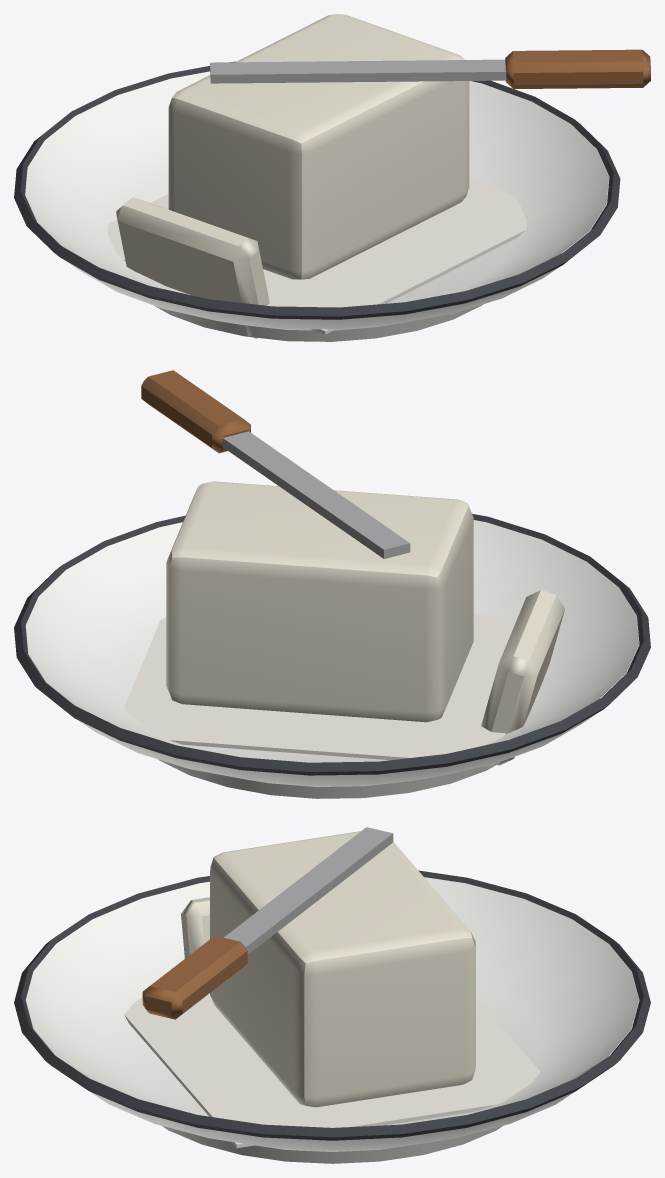
The model's file is cook_butter.glb.
The picture shows the model from 3 angles, top to bottom: view 1: azimuth 30°, elevation 25°; view 2: azimuth 150°, elevation 25°; view 3: azimuth 270°, elevation 25°; orthographic projection. The views are drawn at different scales.
Parts seen in each view (by area): view 1: body; view 2: body; view 3: body.
Part boxes in pixels (x1=…): body: x1=14, y1=14, x2=650, y2=341; body: x1=14, y1=370, x2=650, y2=798; body: x1=14, y1=827, x2=650, y2=1163.
Size of the model in its own units: 0.0628 by 0.0237 by 0.0628.
